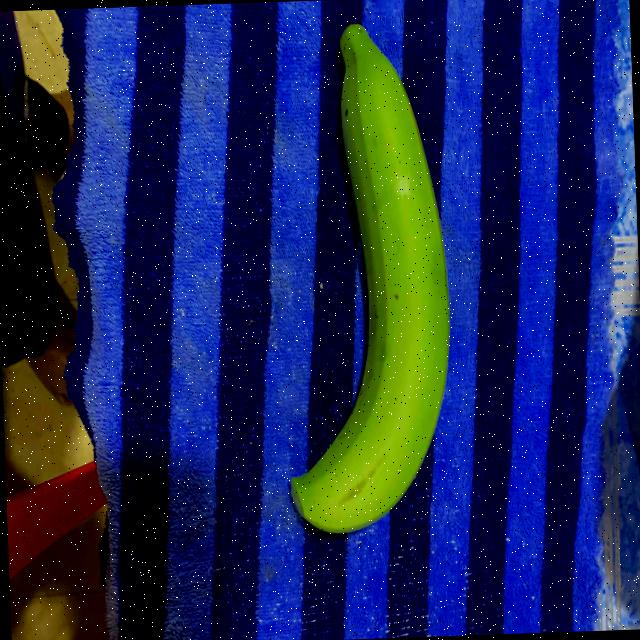Unripe: (248, 6, 504, 544)
